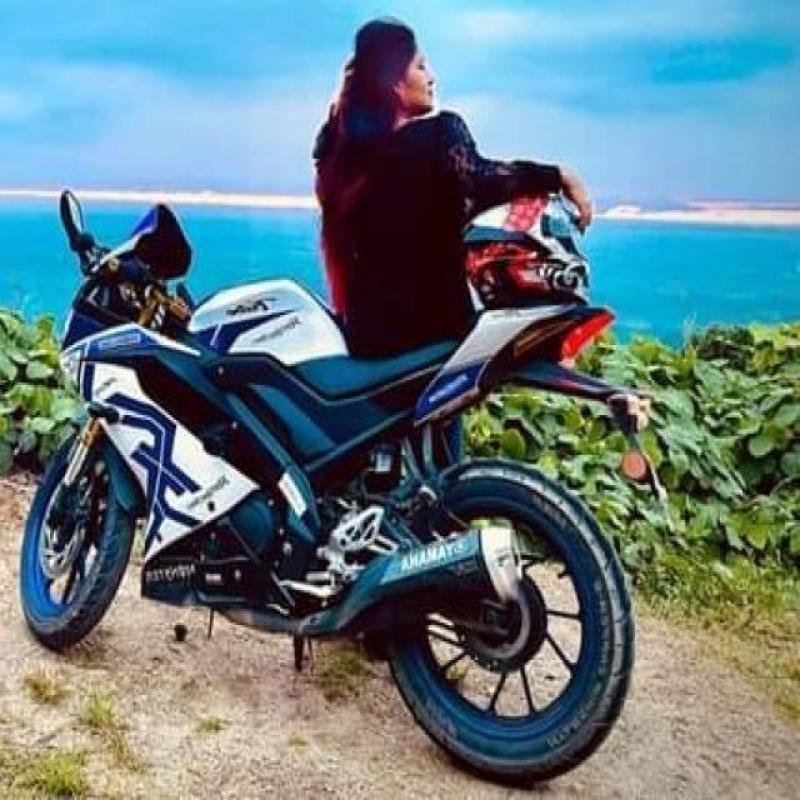nohelmet: (346, 13, 443, 125)
